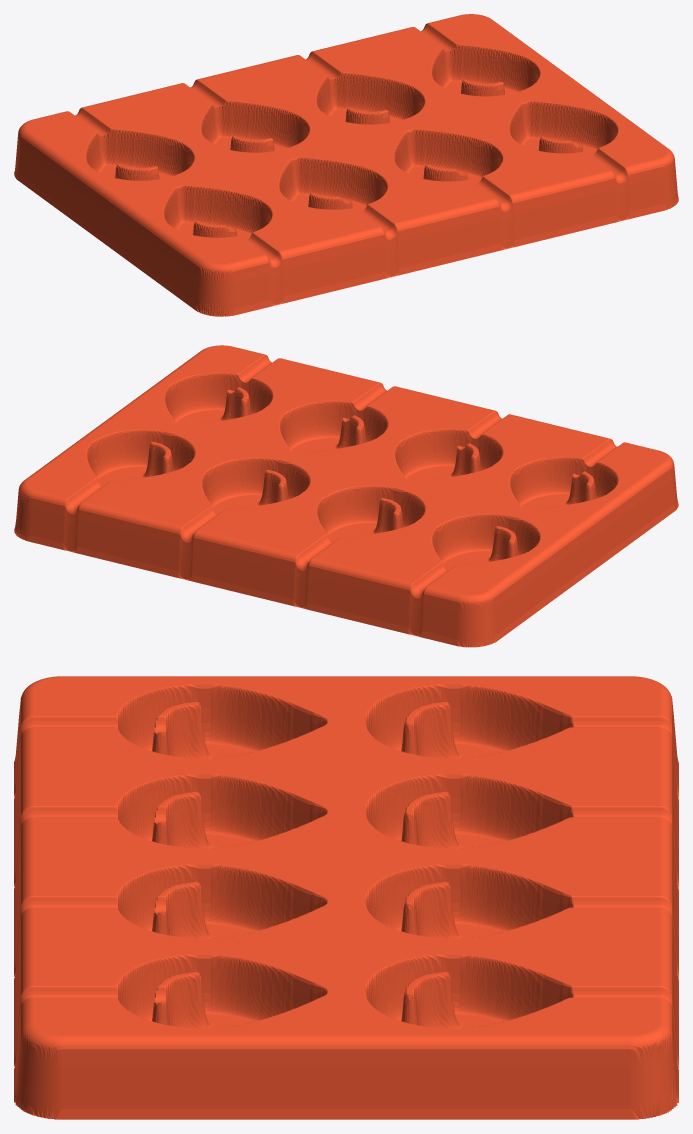
The model's file is mold.glb.
The picture shows the model from 3 angles, top to bottom: view 1: azimuth 30°, elevation 25°; view 2: azimuth 150°, elevation 25°; view 3: azimuth 270°, elevation 25°; orthographic projection. The views are drawn at different scales.
Parts seen in each view (by area): view 1: geometry_0; view 2: geometry_0; view 3: geometry_0.
Part boxes in pixels (box(x1,y1,x2,y2)): geometry_0: box(14, 14, 678, 316); geometry_0: box(14, 345, 678, 647); geometry_0: box(14, 676, 678, 1119).
Bounding box in the file's own units: 0.1638 × 0.0155 × 0.1229.
